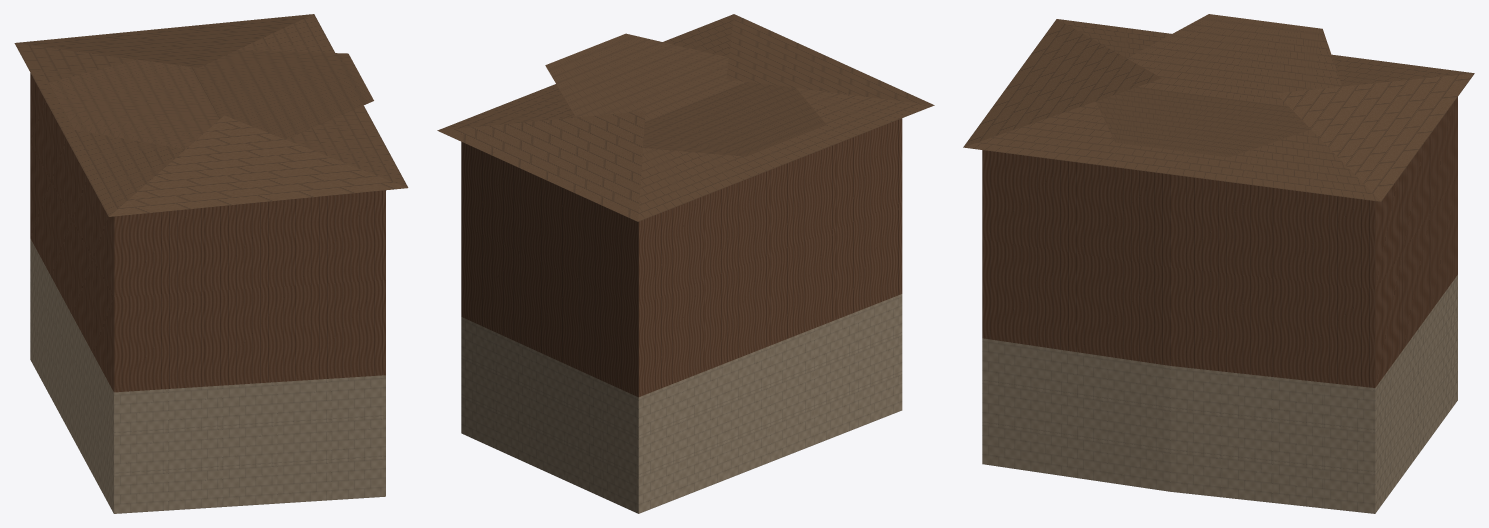
Rendered from bld_c3_18_464.gltf.
The picture shows the model from 3 angles, left to right: view 1: azimuth 30°, elevation 25°; view 2: azimuth 150°, elevation 25°; view 3: azimuth 270°, elevation 25°; orthographic projection. The views are drawn at different scales.
Parts seen in each view (by area): view 1: bld_c3_18_464; view 2: bld_c3_18_464; view 3: bld_c3_18_464.
Part boxes in pixels (<box>): bld_c3_18_464: <box>14,14,408,513</box>; bld_c3_18_464: <box>437,14,934,513</box>; bld_c3_18_464: <box>963,14,1474,513</box>.
Bounding box in the file's own units: 15.91 × 14.1 × 18.8.
Materials: 3 (3 with a texture image).
